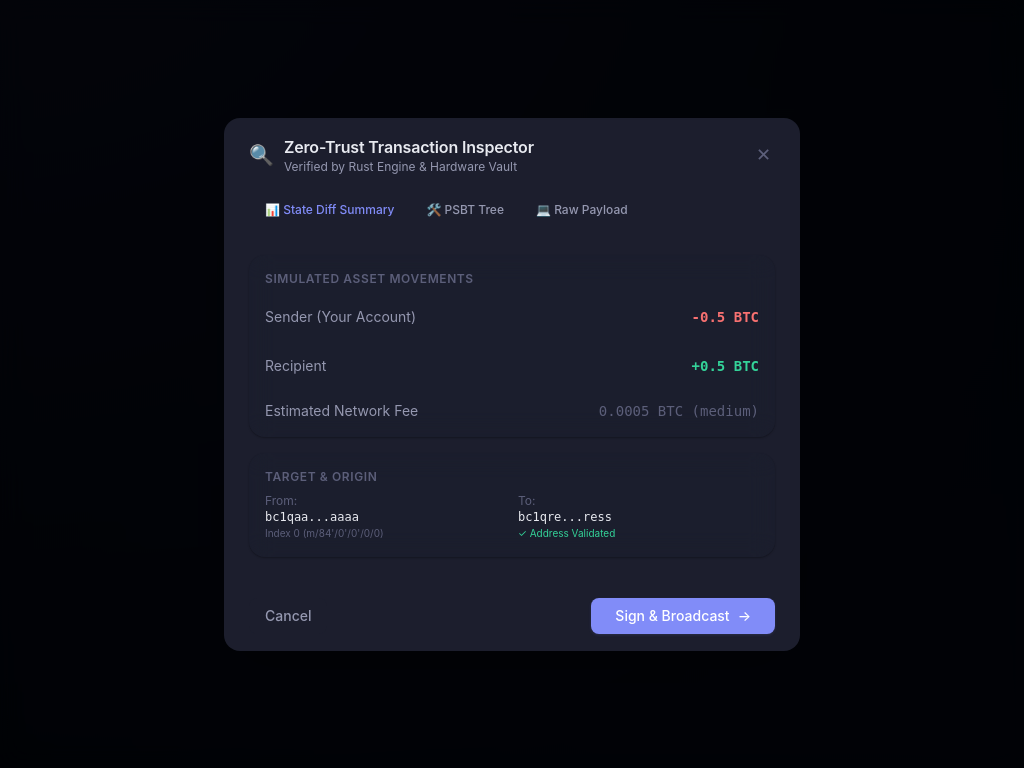
TxInspectorModal.svelte › switches to the raw payload tab and shows the JSON body
This screenshot has width=1024, height=768.
Click the button "💻 Raw Payload": (582, 210) [520,192,644,230]
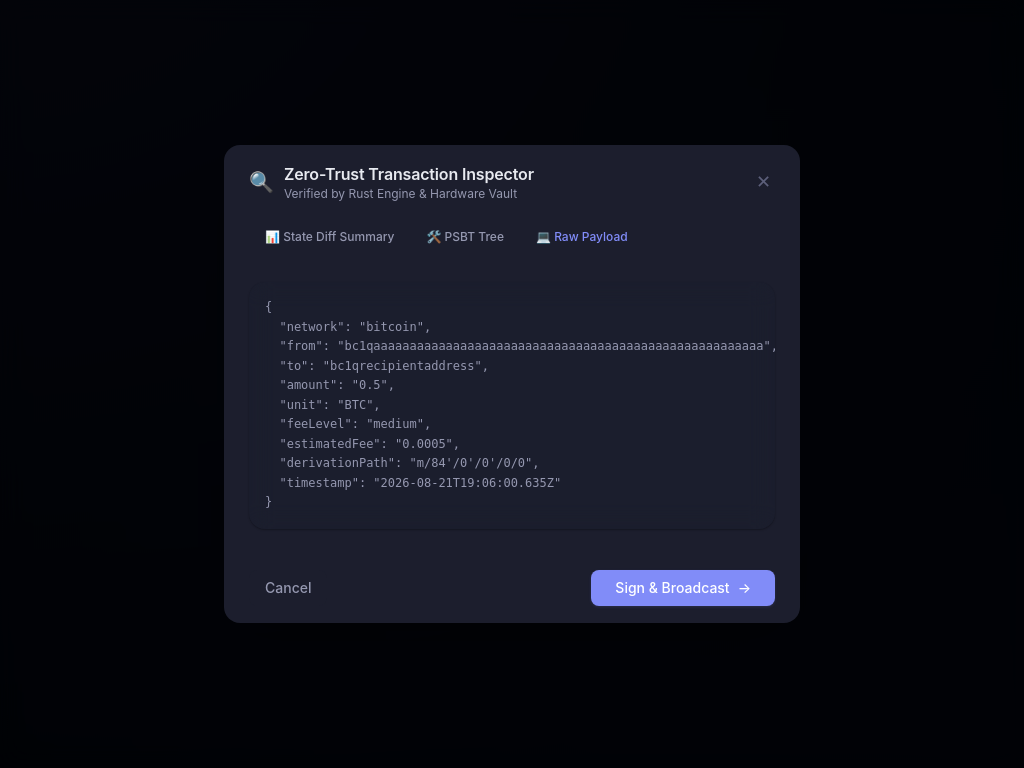
Check: the text "\"amount\": \"0.5\"" is shown, box [265,300,775,509]
